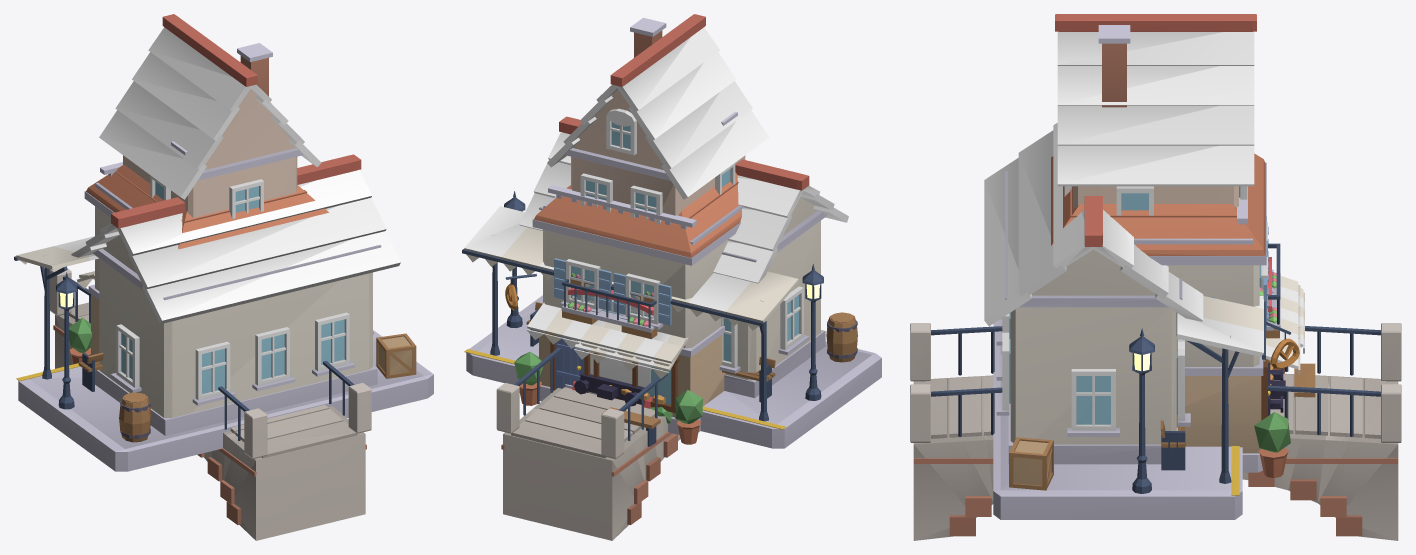
File: props_city.glb
3 views of the same model, side by side, from view 1: azimuth 30°, elevation 25°; view 2: azimuth 150°, elevation 25°; view 3: azimuth 270°, elevation 25° (orthographic). The views are drawn at different scales.
Parts seen in each view (by area): view 1: station__tint, station__c_f6efe2, station__c_d9d6ea, bridgestone__c_ddd3cb, house2__tint, house2__c_f3d9c8, station__c_ffffff, house3__c_d98a6a, bridgestone__c_cfc6be, station__c_9fd4e8, station__c_b98a5e, station__c_c96f5f (+12 smaller); view 2: house2__tint, bridgestone__c_ddd3cb, station__c_d9d6ea, station__tint, station__c_f6efe2, house3__c_f6efe2, house3__c_d98a6a, house2__c_f3d9c8, bridgestone__c_cfc6be, station__c_4a5a78, house3__c_d9d6ea, house3__c_e7c9a8 (+26 smaller); view 3: house2__tint, station__c_f6efe2, bridgestone__c_ddd3cb, station__c_d9d6ea, station__tint, bridgestone__c_cfc6be, house3__c_d98a6a, house3__c_e7c9a8, bridgestone__c_c98a72, house3__c_f6efe2, station__c_4a5a78, bridgestone__c_4a5a78 (+19 smaller).
Part boxes in pixels (box(x1,y1,x2,y2)): station__tint: box(54, 170, 400, 324); station__c_f6efe2: box(16, 235, 372, 417); station__c_d9d6ea: box(18, 245, 433, 471); bridgestone__c_ddd3cb: box(49, 267, 371, 540); house2__tint: box(99, 27, 321, 199); house2__c_f3d9c8: box(123, 89, 297, 217); station__c_ffffff: box(116, 312, 349, 400); house3__c_d98a6a: box(86, 164, 328, 249); bridgestone__c_cfc6be: box(69, 302, 357, 458); station__c_9fd4e8: box(121, 319, 344, 393); station__c_b98a5e: box(78, 333, 416, 442); station__c_c96f5f: box(111, 154, 361, 228); house2__tint: box(547, 27, 769, 199); bridgestone__c_ddd3cb: box(496, 383, 680, 540); station__c_d9d6ea: box(466, 207, 881, 448); station__tint: box(464, 132, 848, 313); station__c_f6efe2: box(466, 197, 820, 379); house3__c_f6efe2: box(543, 229, 728, 378); house3__c_d98a6a: box(534, 172, 741, 257); house2__c_f3d9c8: box(571, 89, 745, 215); bridgestone__c_cfc6be: box(511, 387, 654, 458); station__c_4a5a78: box(462, 191, 823, 421); house3__c_d9d6ea: box(532, 111, 740, 434); house3__c_e7c9a8: box(539, 331, 725, 417); house2__tint: box(1057, 31, 1254, 186); station__c_f6efe2: box(1010, 249, 1265, 444); bridgestone__c_ddd3cb: box(910, 323, 1401, 540); station__c_d9d6ea: box(993, 171, 1242, 519); station__tint: box(984, 123, 1263, 356); bridgestone__c_cfc6be: box(914, 374, 1397, 438); house3__c_d98a6a: box(1051, 153, 1265, 255); house3__c_e7c9a8: box(1176, 376, 1261, 453); bridgestone__c_c98a72: box(913, 458, 1398, 536); house3__c_f6efe2: box(1167, 265, 1304, 366); station__c_4a5a78: box(1129, 301, 1265, 493); bridgestone__c_4a5a78: box(931, 326, 1380, 436).
Bounding box in the file's own units: 6.43 × 7.86 × 7.1.
